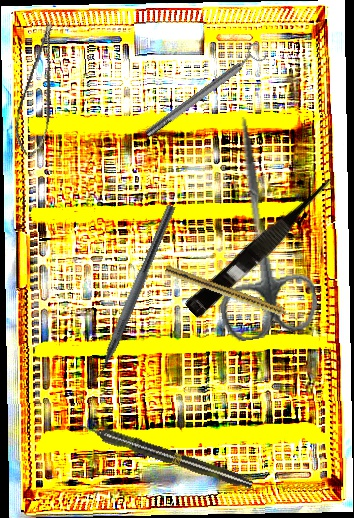Chopper: (80, 199, 176, 393)
Fixation Ring: (139, 40, 270, 143)
Handpiece: (77, 417, 255, 493), (163, 264, 302, 326)
Iris Scissors: (191, 110, 322, 344)
Micro Scissor: (183, 169, 346, 322), (6, 20, 77, 160)
